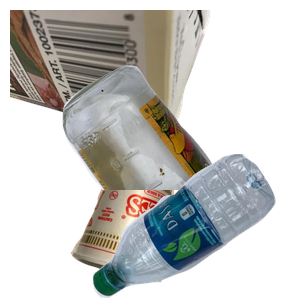cardboard: (10, 10, 213, 146)
glass: (60, 63, 300, 243)
plastic: (90, 154, 300, 300)
trash: (68, 158, 235, 300)
